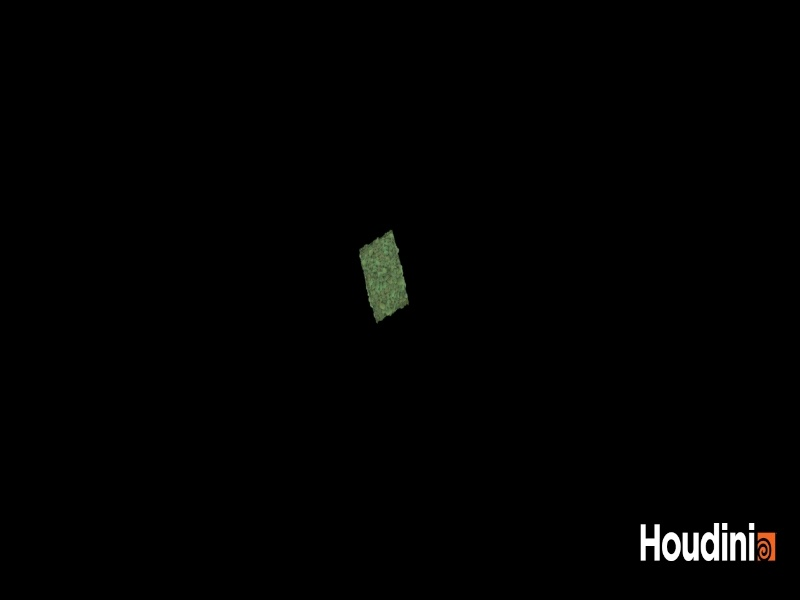waste: (354, 223, 415, 331)
